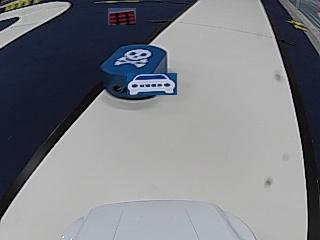danger: (113, 48, 149, 67)
